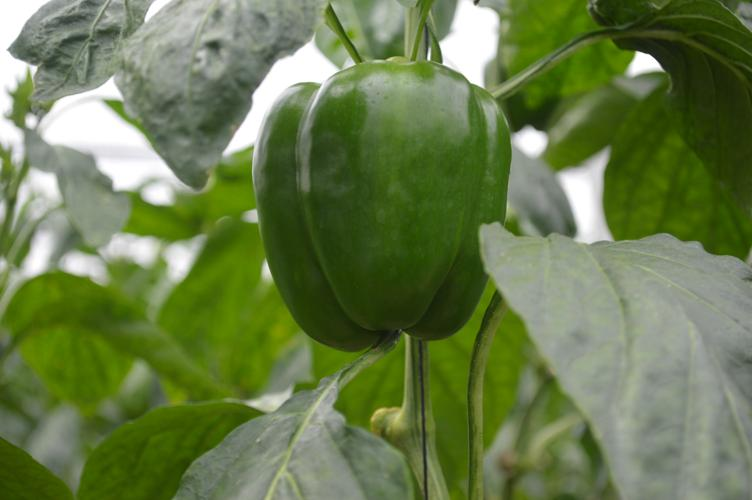BellPepper: (245, 60, 510, 335)
